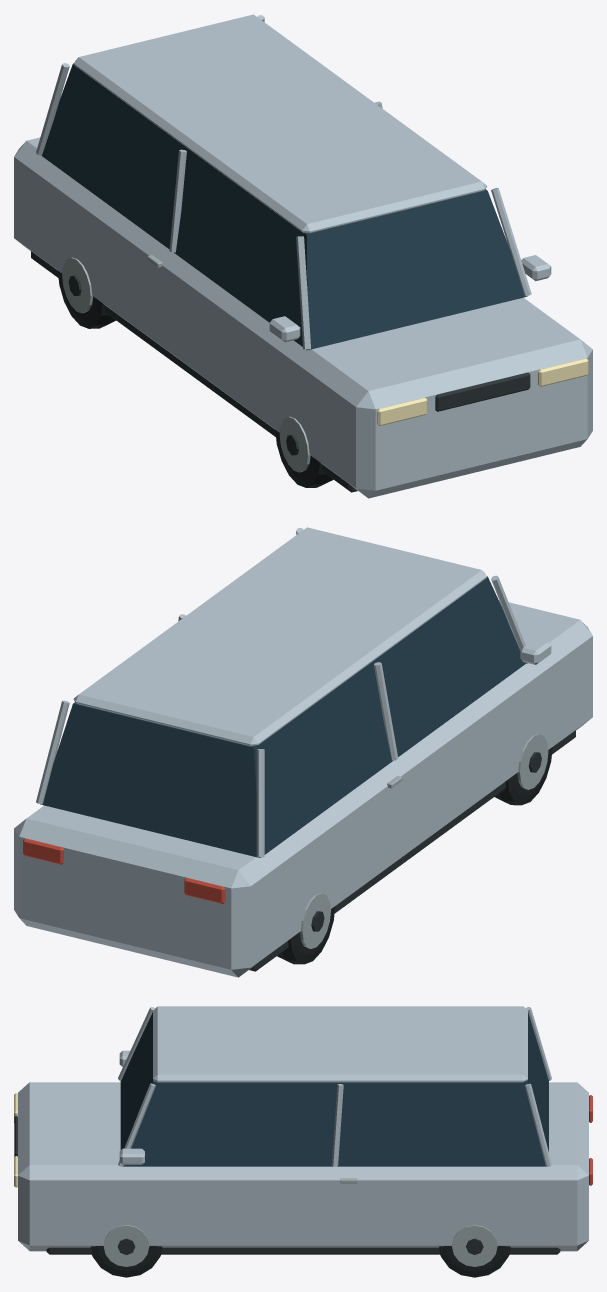
The model's file is car-minivan-08.glb.
The picture shows the model from 3 angles, top to bottom: view 1: azimuth 30°, elevation 25°; view 2: azimuth 150°, elevation 25°; view 3: azimuth 270°, elevation 25°; orthographic projection. The views are drawn at different scales.
Visible parts, largest first — view 1: Body, Glass, Roof, Sill, FrontGrille, Rim_FR, Rim_RR, WindowPillar, Tyre_FR, Tyre_RR, WindowPillar.003, Lamp_Head (+3 smaller); view 2: Body, Glass, Roof, Sill, Rim_FR, Rim_RR, WindowPillar.002, Tyre_FR, Tyre_RR, WindowPillar.005, WindowPillar.001, Lamp_Tail (+3 smaller); view 3: Body, Glass, Roof, Sill, Rim_FL, Rim_RL, Tyre_RL, Tyre_FL, WindowPillar.005, WindowPillar.004, WindowPillar.003, Mirror.001 (+1 smaller).
Boxes of the visible parts, x1,y1,x2,y2 form: Body: (14, 137, 592, 498); Glass: (42, 63, 527, 350); Roof: (73, 14, 486, 233); Sill: (31, 251, 357, 492); FrontGrille: (435, 372, 530, 411); Rim_FR: (279, 416, 310, 472); Rim_RR: (62, 257, 92, 313); WindowPillar: (296, 236, 310, 349); Tyre_FR: (275, 430, 333, 487); Tyre_RR: (58, 271, 115, 328); WindowPillar.003: (491, 188, 531, 296); Lamp_Head: (377, 397, 427, 425); Body: (14, 600, 592, 977); Glass: (40, 576, 525, 857); Roof: (73, 527, 486, 746); Sill: (249, 730, 575, 971); Rim_FR: (517, 734, 548, 789); Rim_RR: (300, 893, 330, 948); WindowPillar.002: (256, 749, 264, 857); Tyre_FR: (494, 747, 552, 805); Tyre_RR: (277, 906, 335, 964); WindowPillar.005: (36, 700, 69, 804); WindowPillar.001: (374, 662, 398, 760); Lamp_Tail: (184, 878, 225, 903); Body: (18, 1082, 588, 1251); Glass: (120, 1012, 548, 1166); Roof: (153, 1006, 527, 1082); Sill: (46, 1247, 560, 1254); Rim_FL: (103, 1225, 149, 1266); Rim_RL: (452, 1225, 497, 1266); Tyre_RL: (439, 1246, 510, 1277); Tyre_FL: (90, 1246, 162, 1277); WindowPillar.005: (525, 1083, 551, 1166); WindowPillar.004: (331, 1084, 343, 1166); WindowPillar.003: (118, 1083, 155, 1166); Mirror.001: (119, 1148, 144, 1164).
Size of the model in its own units: 2.16 by 1.85 by 5.02.
